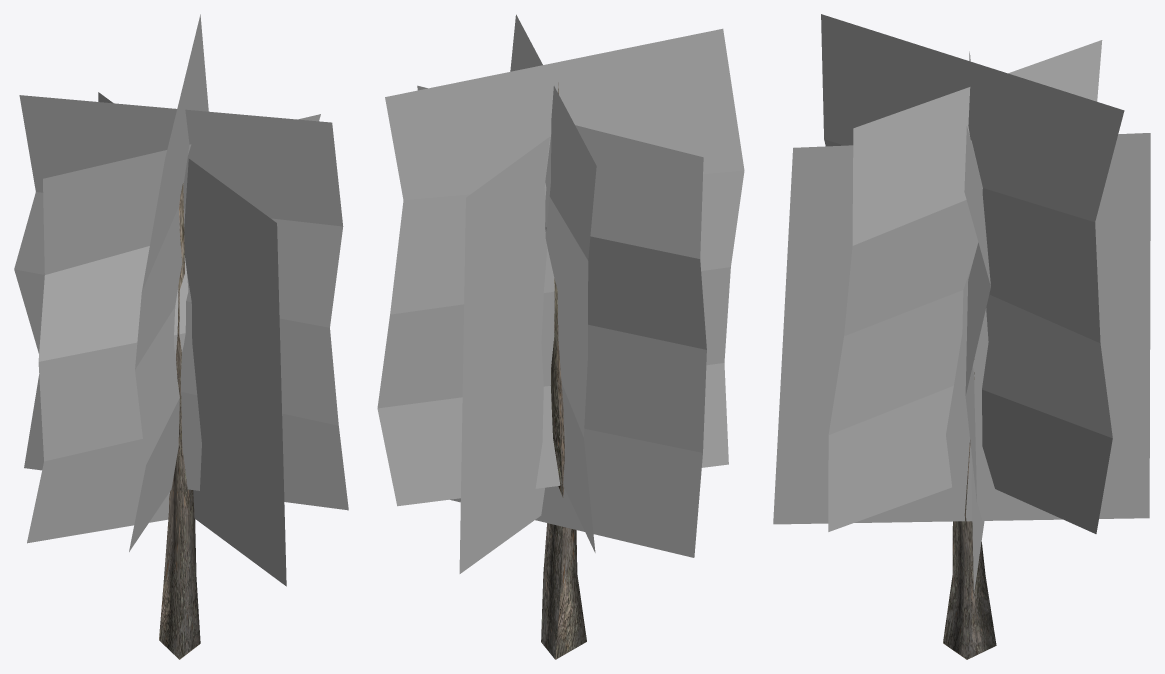
Rendered from tree_3.fbx.
3 renders of one model, left to right at view 1: azimuth 30°, elevation 25°; view 2: azimuth 150°, elevation 25°; view 3: azimuth 270°, elevation 25°, orthographic. The views are drawn at different scales.
Parts seen in each view (by area): view 1: Tree; view 2: Tree; view 3: Tree.
Boxes of the visible parts, x1,y1,x2,y2 form: Tree: (14, 14, 348, 659); Tree: (377, 14, 744, 659); Tree: (773, 14, 1150, 659).
Bounding box in the file's own units: 364 × 667 × 386.
